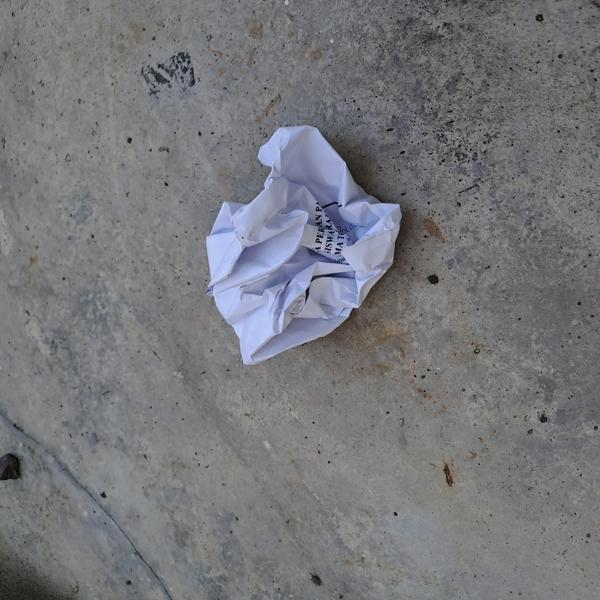Organik: (177, 116, 430, 390)
